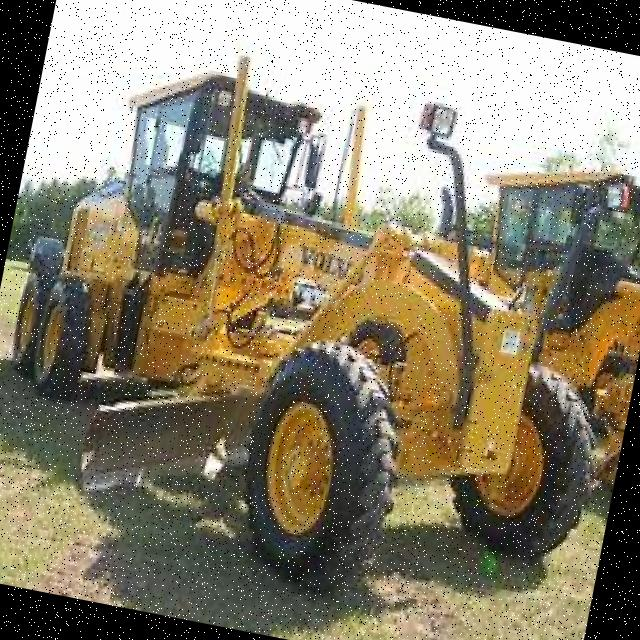Grader: (0, 20, 640, 623)
